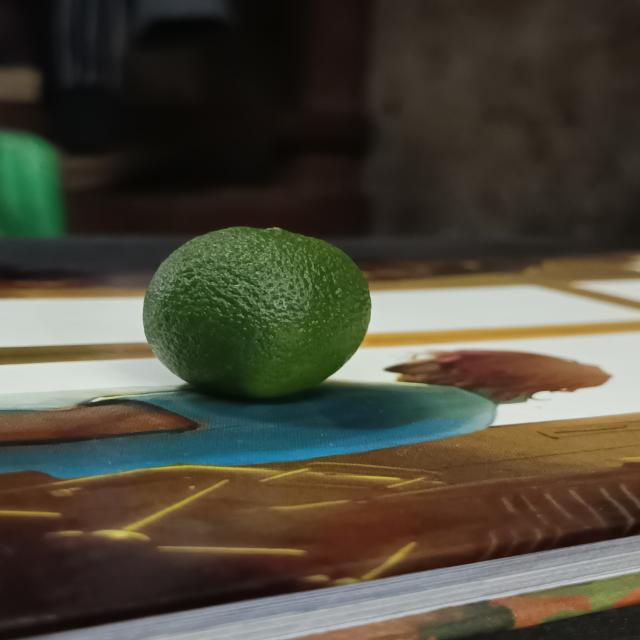heathy: (138, 222, 384, 403)
